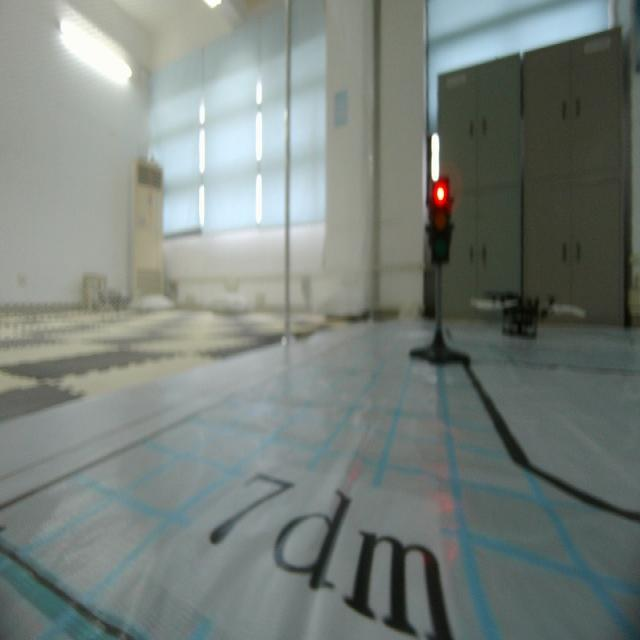red: (423, 172, 454, 274)
